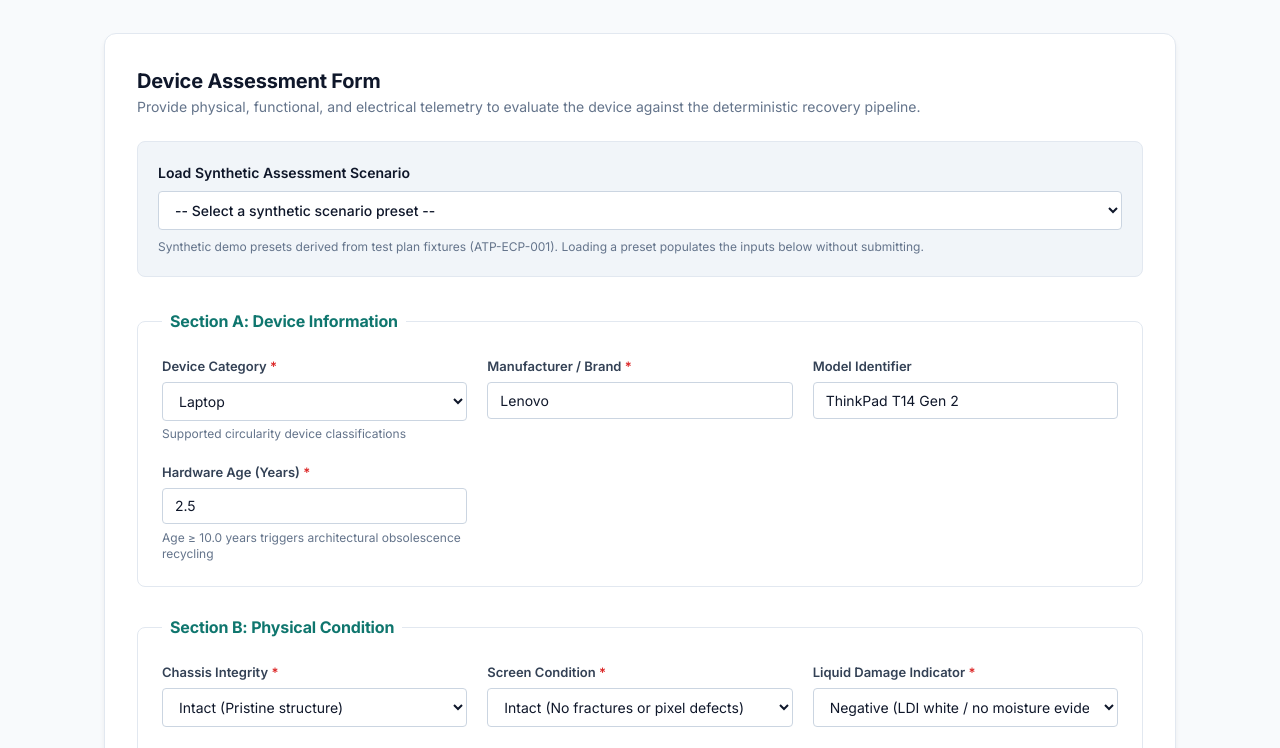
Test: E-CyclePilot Complete Frontend Application Suite › resets the form safely back to clean default values
(page scrolled)
Replace the text in the field labelled "Manufacturer / Brand *" with "Asus ROG" at (640, 400), box [487, 382, 793, 419]
(page scrolled)
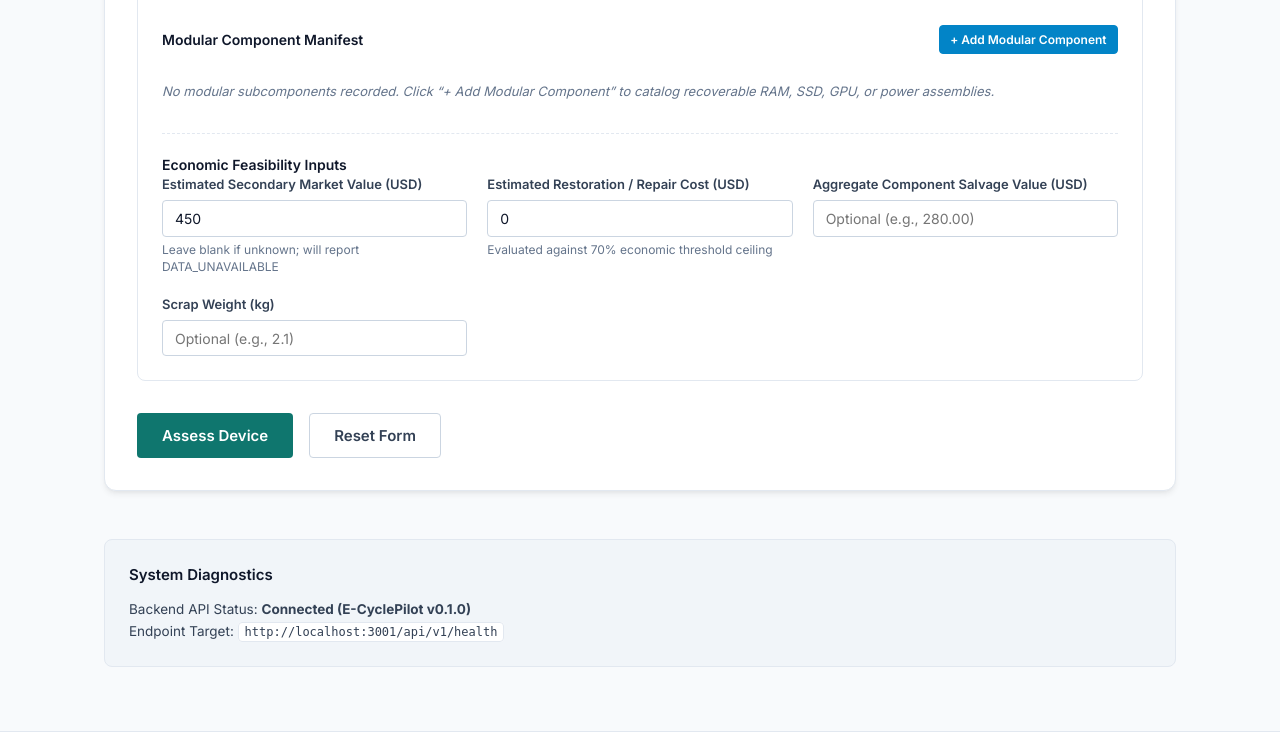
Click the button with test id "assess-reset-btn" at (375, 436), box [309, 413, 441, 458]
(page scrolled)
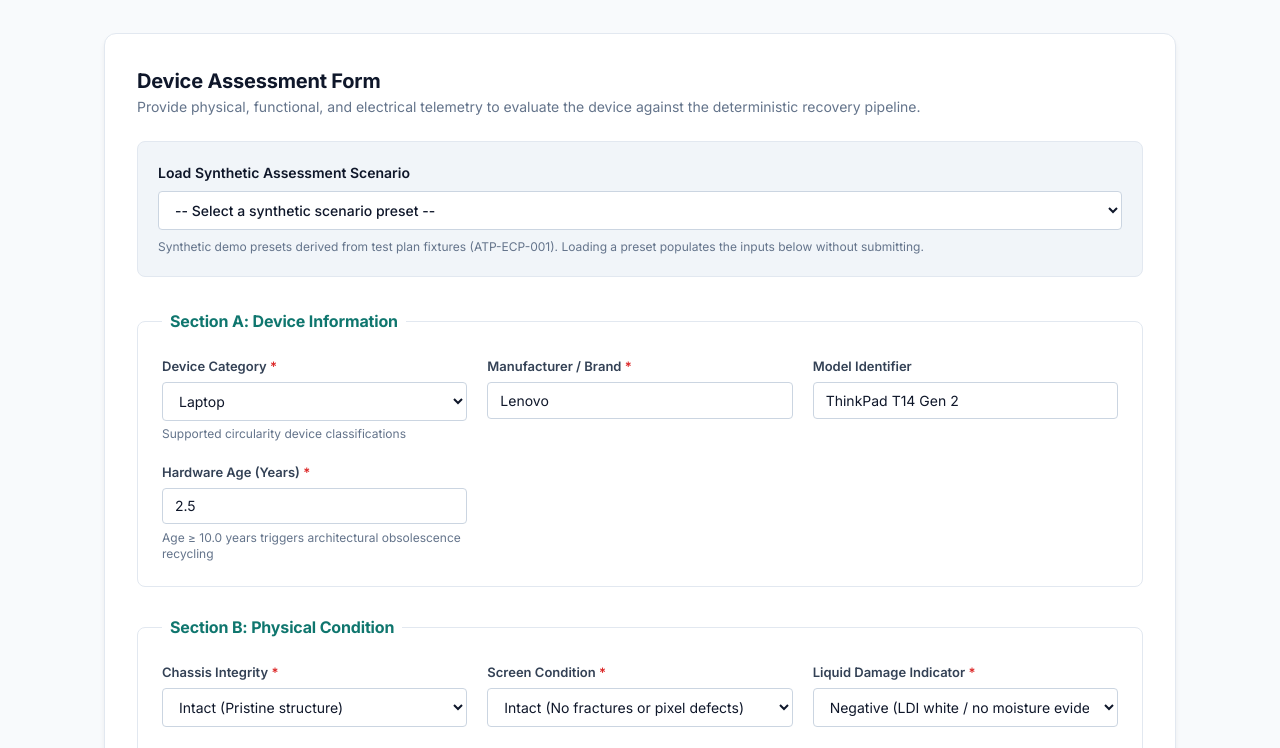
Now the field labelled "Manufacturer / Brand *" holds "Lenovo", box [487, 382, 793, 419]
